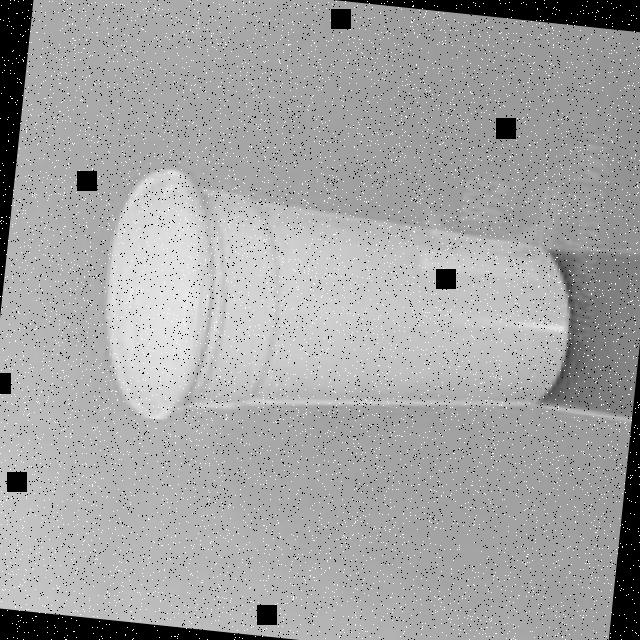plastic_cup: (89, 166, 582, 463)
